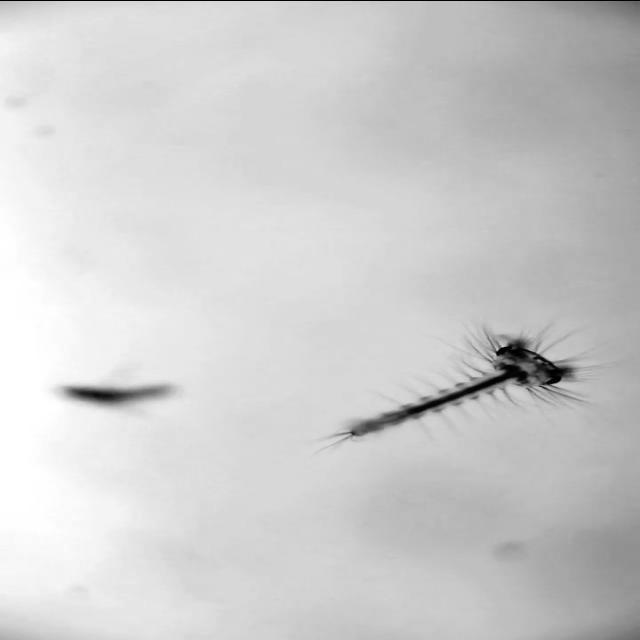larvas: (335, 344, 558, 444)
